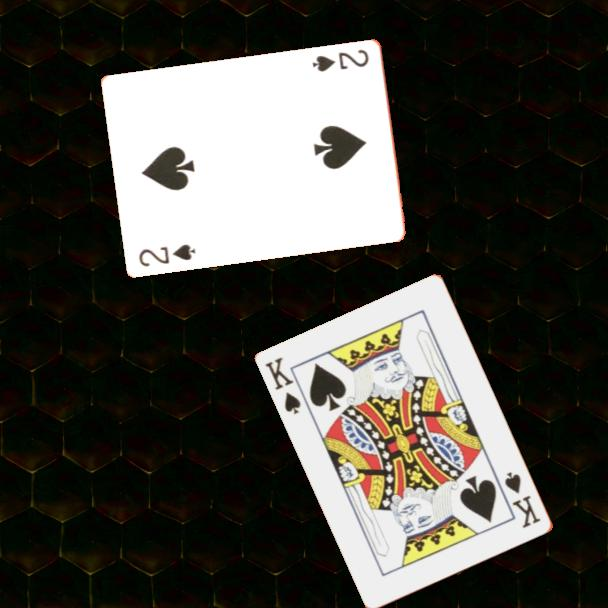s02: (135, 240, 199, 269), (309, 45, 372, 74)
s13: (501, 468, 544, 531), (262, 354, 304, 418)
